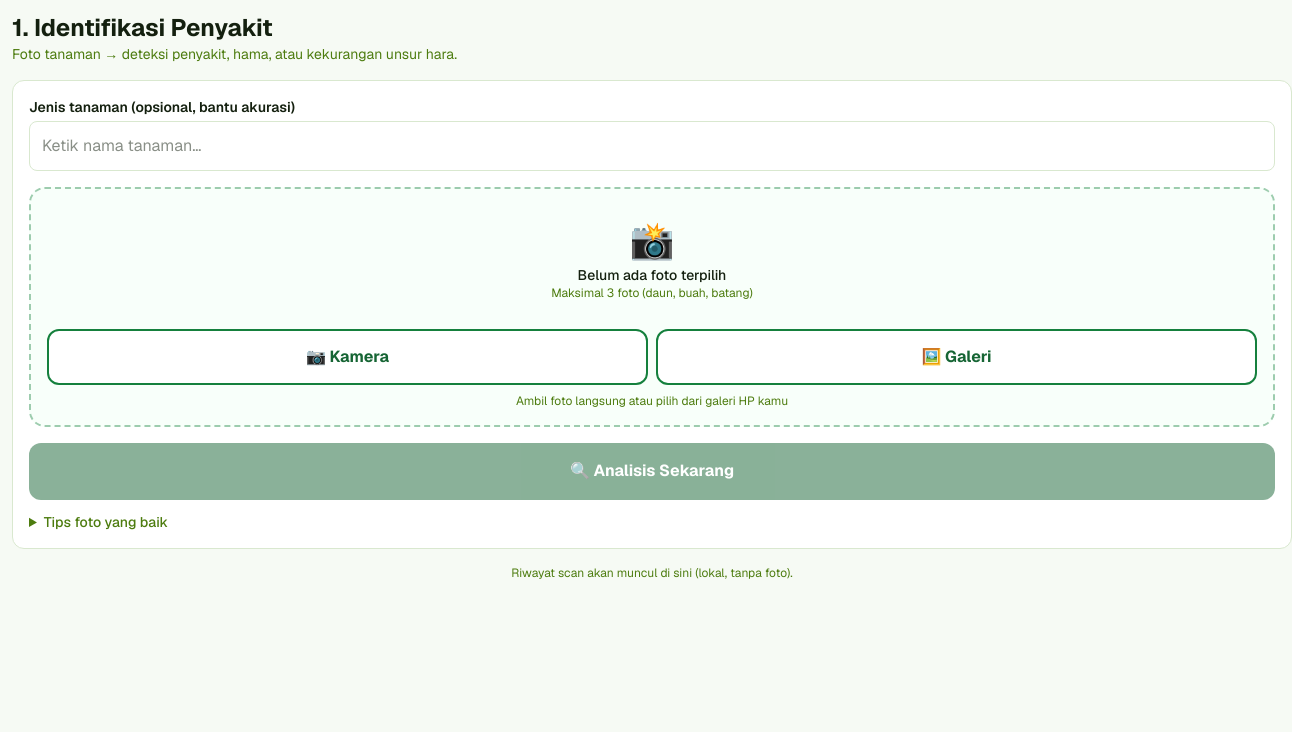
it: IdentifikasiClient — pemilih tanaman ketik-lalu-klik (semua Tier) › pesan tak ditemukan saat ketikan tidak cocok
Type "zzzz" into the dropdown with id "cari-tanaman-identifikasi" at (652, 146), box [29, 121, 1275, 171]
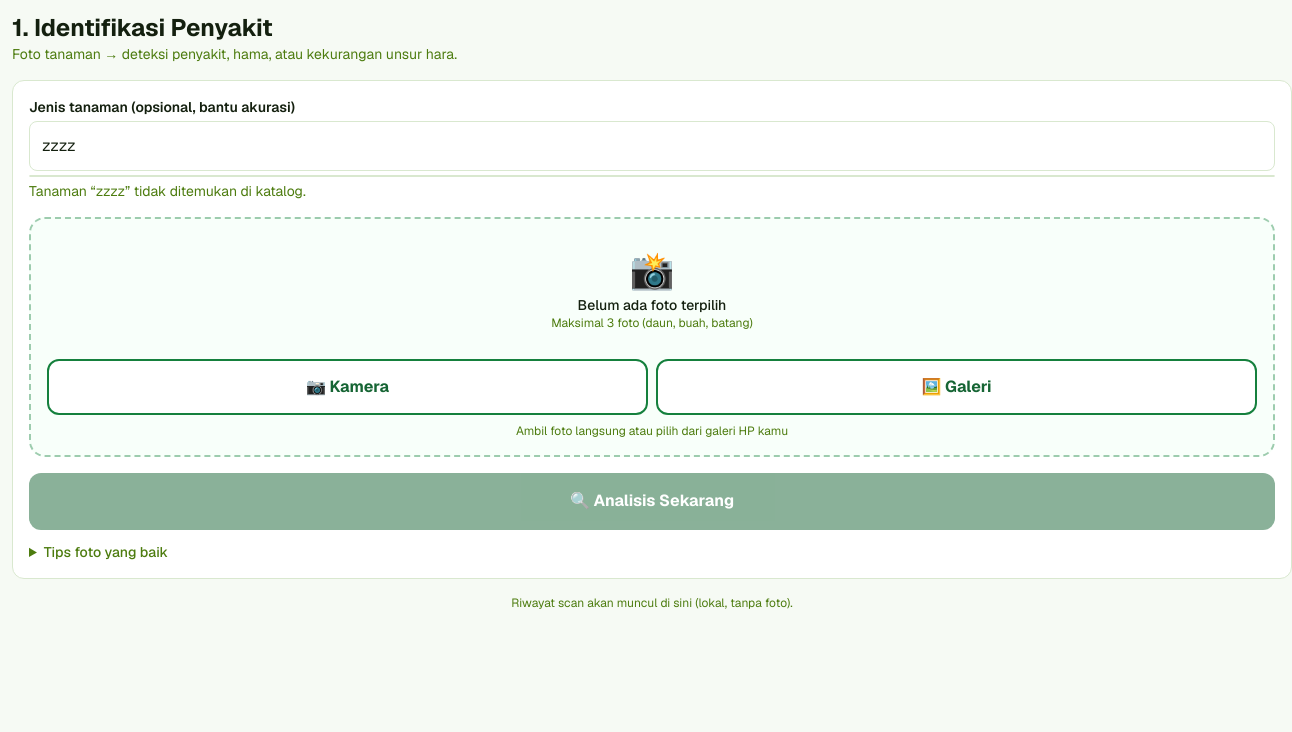
expect the text "tidak ditemukan di katalog" is shown: met, box [125, 182, 306, 200]
